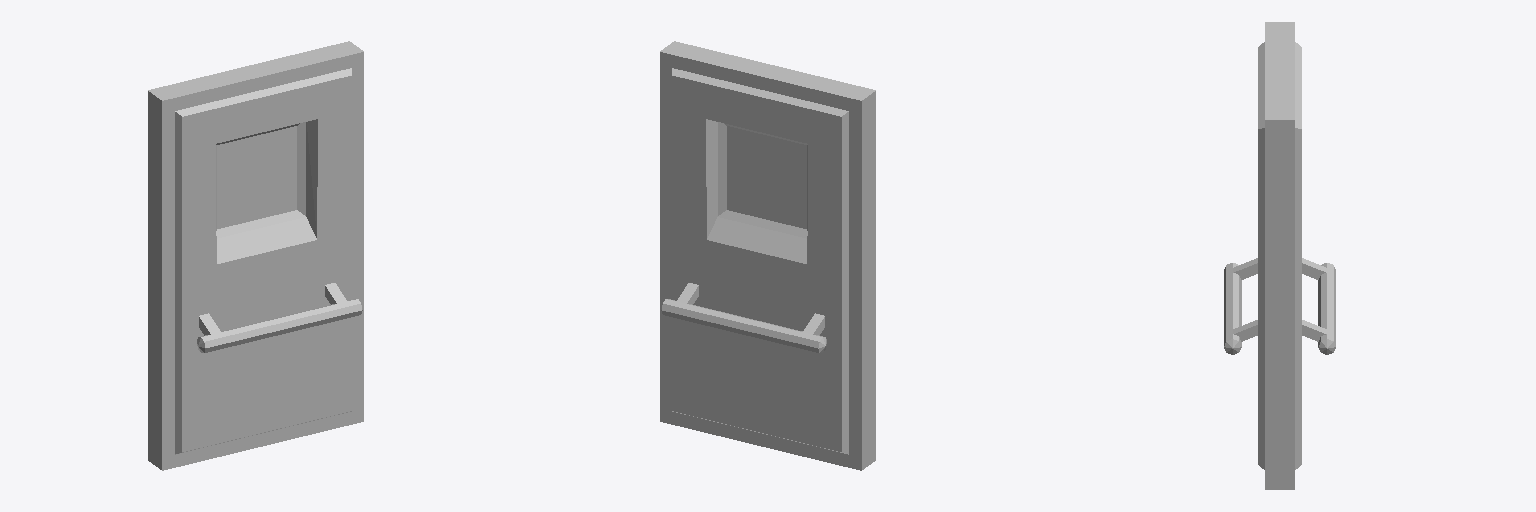
Rendered from door_B.obj.
3 renders of one model, left to right at view 1: azimuth 30°, elevation 25°; view 2: azimuth 150°, elevation 25°; view 3: azimuth 270°, elevation 25°, orthographic.
Parts seen in each view (by area): view 1: door_B_Cube.261; view 2: door_B_Cube.261; view 3: door_B_Cube.261.
Boxes of the visible parts, x1=… form: door_B_Cube.261: x1=148, y1=41, x2=363, y2=470; door_B_Cube.261: x1=660, y1=41, x2=875, y2=470; door_B_Cube.261: x1=1224, y1=22, x2=1335, y2=489.
Bounding box in the file's own units: 1.6 × 2.8 × 0.7714.